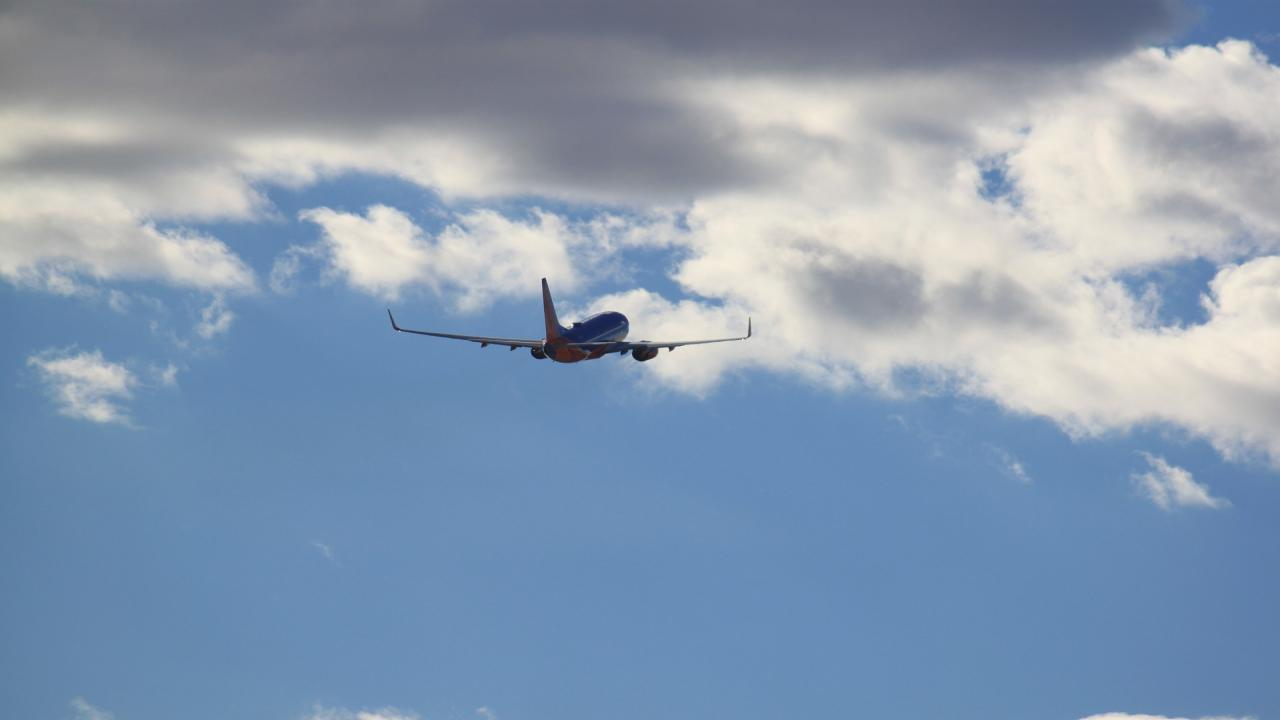Airplane: (371, 268, 772, 374)
